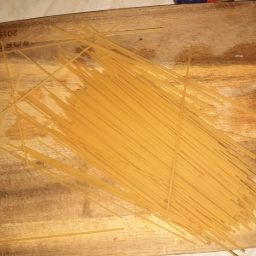Penne pasta: (42, 13, 255, 255), (10, 81, 216, 256), (47, 28, 256, 192), (63, 53, 256, 228), (16, 53, 157, 247)
